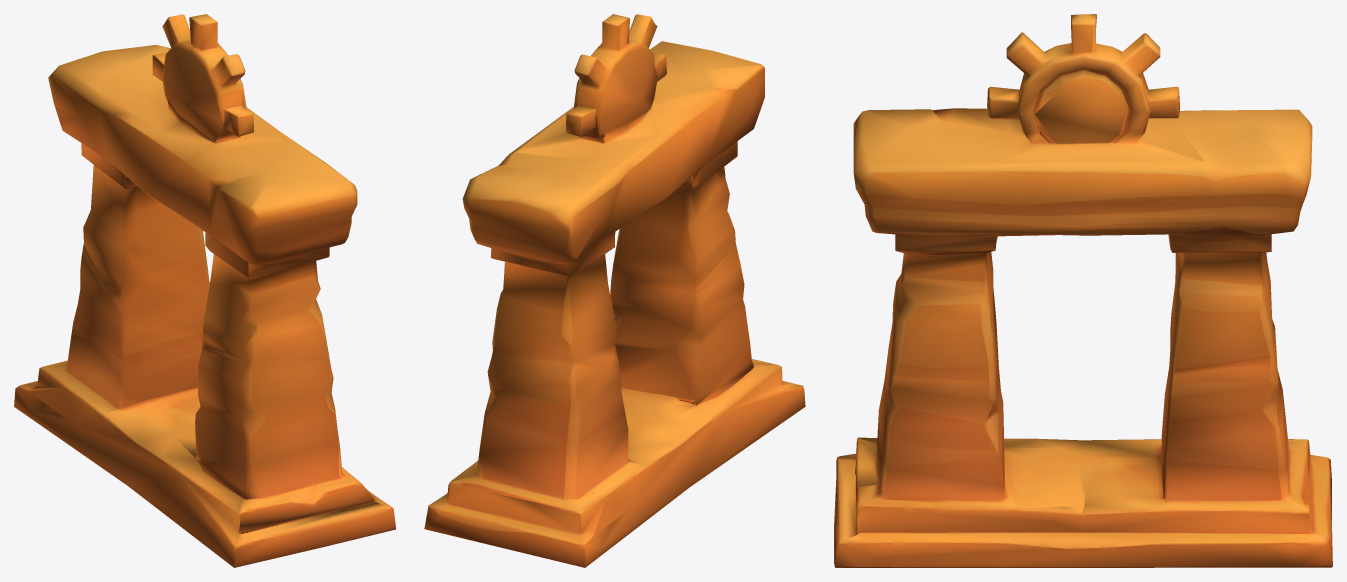
3 views of the same model, side by side, from view 1: azimuth 30°, elevation 25°; view 2: azimuth 150°, elevation 25°; view 3: azimuth 270°, elevation 25° (orthographic). The views are drawn at different scales.
Parts seen in each view (by area): view 1: tripo_node_7698ad19-3def-4511-82a8-e67b8e59f514; view 2: tripo_node_7698ad19-3def-4511-82a8-e67b8e59f514; view 3: tripo_node_7698ad19-3def-4511-82a8-e67b8e59f514.
Part boxes in pixels (x1=…): tripo_node_7698ad19-3def-4511-82a8-e67b8e59f514: x1=14, y1=14, x2=395, y2=567; tripo_node_7698ad19-3def-4511-82a8-e67b8e59f514: x1=424, y1=14, x2=805, y2=567; tripo_node_7698ad19-3def-4511-82a8-e67b8e59f514: x1=834, y1=14, x2=1332, y2=567.
Size of the model in its own units: 0.3777 by 1 by 0.8943.
1 material, 1 textured.
